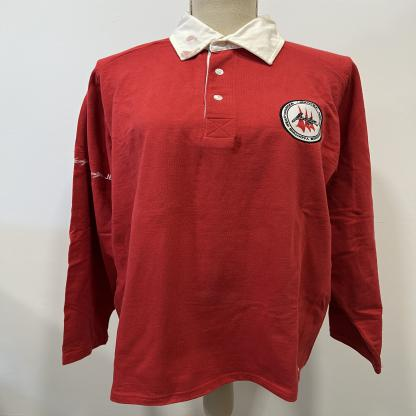stain: (177, 47, 202, 59), (230, 134, 244, 155), (182, 34, 200, 43), (209, 38, 219, 44)
